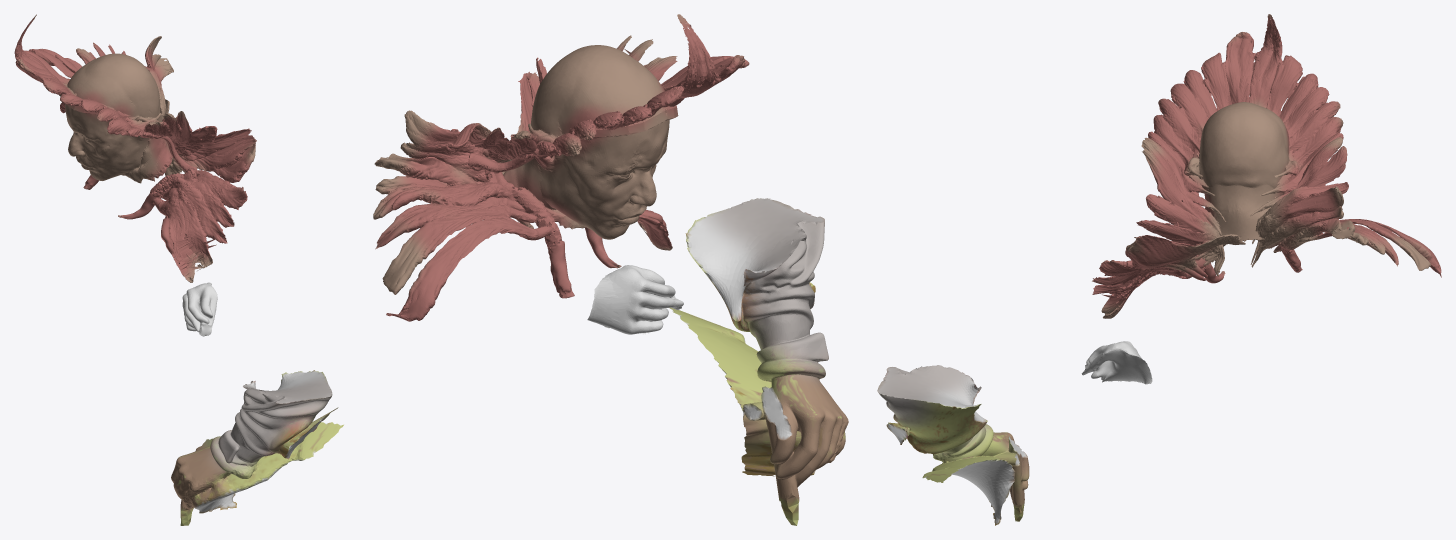
File: atlas2.glb
3 renders of one model, left to right at view 1: azimuth 30°, elevation 25°; view 2: azimuth 150°, elevation 25°; view 3: azimuth 270°, elevation 25°, orthographic. The views are drawn at different scales.
Bounding box in the file's own units: 0.9091 × 1.9 × 1.99.
